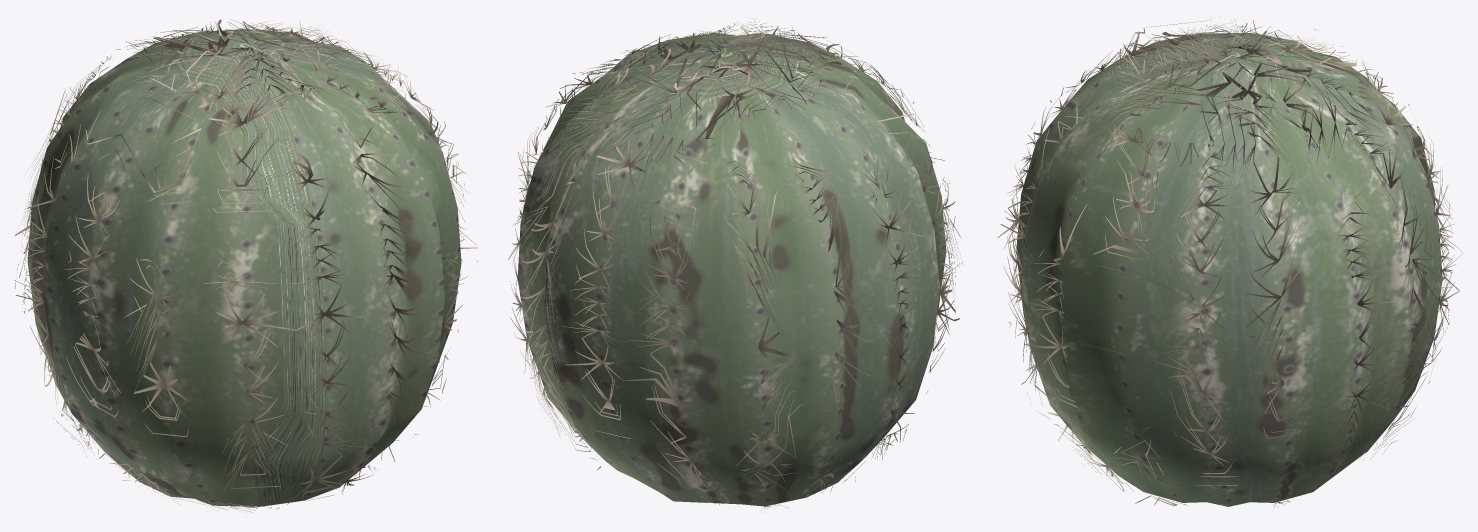
Rendered from kaktus_kulaty.glb.
3 views of the same model, side by side, from view 1: azimuth 30°, elevation 25°; view 2: azimuth 150°, elevation 25°; view 3: azimuth 270°, elevation 25° (orthographic).
Parts seen in each view (by area): view 1: cactus_0_cactus_0Mat_0, spines 01_6_spines 01_6Mat_0; view 2: cactus_0_cactus_0Mat_0, spines 01_6_spines 01_6Mat_0; view 3: cactus_0_cactus_0Mat_0, spines 01_6_spines 01_6Mat_0.
Part boxes in pixels (bbox=[...]): cactus_0_cactus_0Mat_0: bbox=[27, 29, 461, 506]; spines 01_6_spines 01_6Mat_0: bbox=[14, 19, 477, 512]; cactus_0_cactus_0Mat_0: bbox=[517, 32, 946, 506]; spines 01_6_spines 01_6Mat_0: bbox=[508, 18, 962, 509]; cactus_0_cactus_0Mat_0: bbox=[1016, 33, 1442, 506]; spines 01_6_spines 01_6Mat_0: bbox=[997, 19, 1462, 510].
Bounding box in the file's own units: 0.5235 × 0.5245 × 0.5292.
2 materials, 2 textured.
